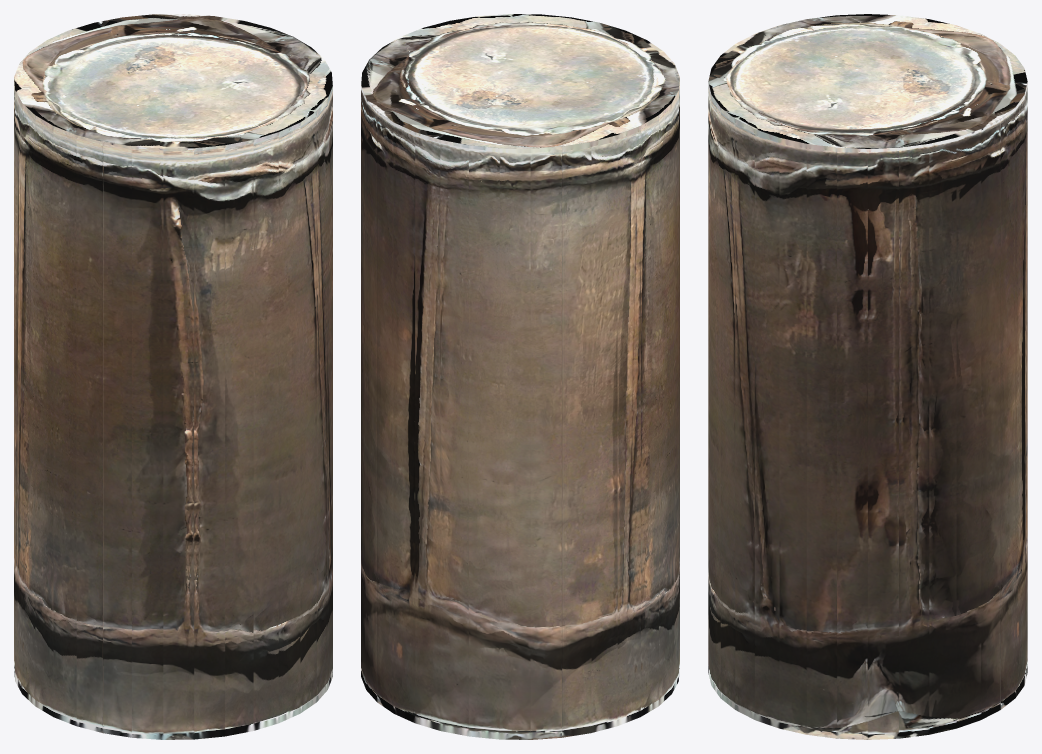
Rendered from Drum2LowResBaking.glb.
The picture shows the model from 3 angles, left to right: view 1: azimuth 30°, elevation 25°; view 2: azimuth 150°, elevation 25°; view 3: azimuth 270°, elevation 25°; orthographic projection.
Visible parts, largest first — view 1: Drum 2.001; view 2: Drum 2.001; view 3: Drum 2.001.
Part boxes in pixels (x1,y1,x2,y2): Drum 2.001: [14, 14, 332, 739]; Drum 2.001: [361, 14, 679, 739]; Drum 2.001: [708, 14, 1027, 739].
Bounding box in the file's own units: 0.00581 × 0.0119 × 0.00581.
1 material, 1 textured.
